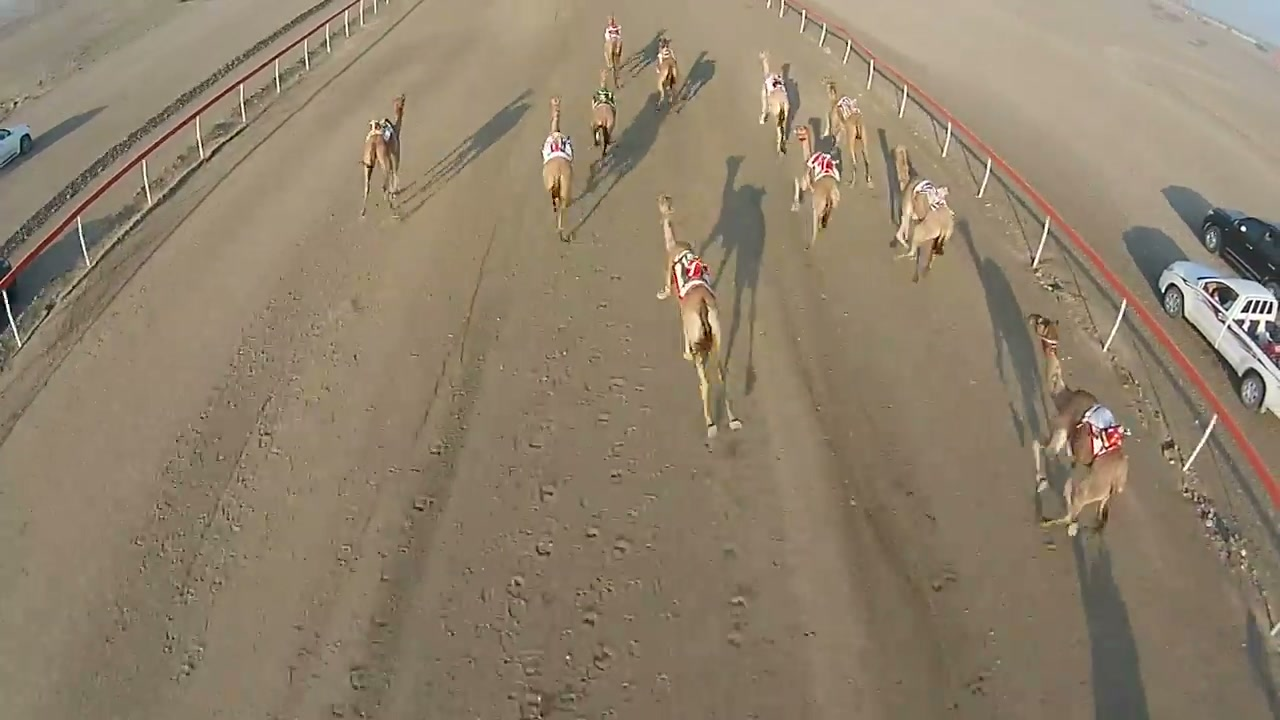animal_foot_print: (393, 235, 853, 708), (311, 382, 468, 719)
